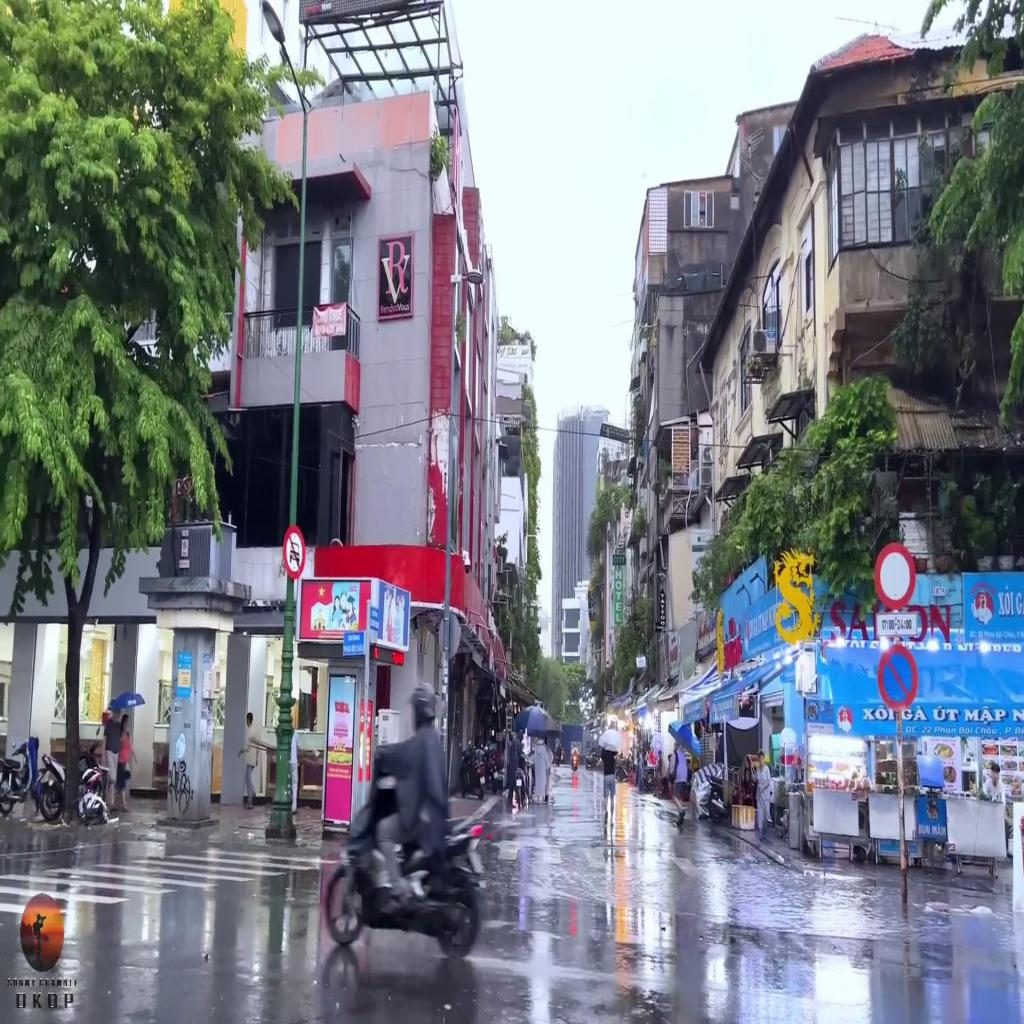cam_do_xe: (878, 644, 918, 712)
cam_o_to: (282, 524, 306, 580)
khac: (875, 541, 915, 610), (876, 612, 917, 635)
